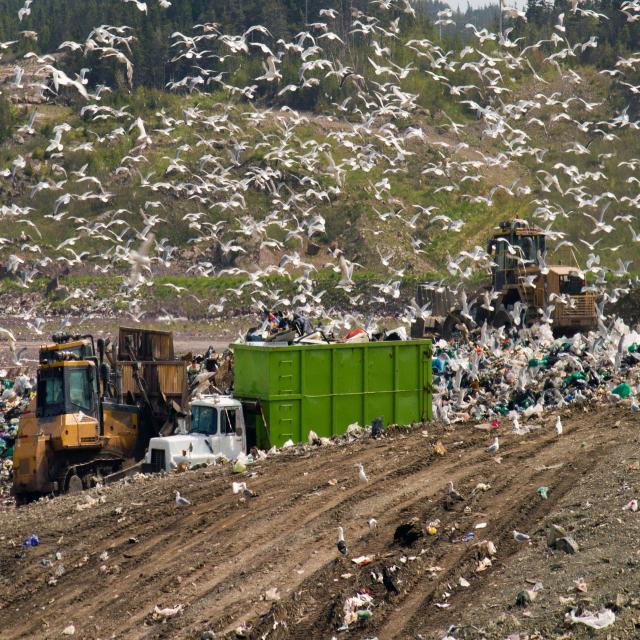trash: (464, 341, 582, 412)
